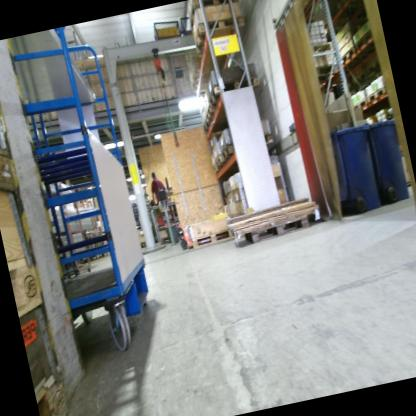pallet: (7, 252, 48, 331), (191, 17, 252, 62), (233, 214, 310, 246), (206, 75, 262, 117), (216, 131, 279, 167), (30, 366, 69, 416), (184, 0, 243, 32), (0, 117, 22, 195), (190, 230, 231, 252), (337, 45, 359, 68), (345, 97, 369, 118), (364, 86, 388, 106), (209, 153, 228, 178), (350, 33, 376, 50), (336, 0, 364, 12), (205, 104, 217, 129), (201, 119, 211, 138)
pallet_truck: (164, 175, 193, 251)
